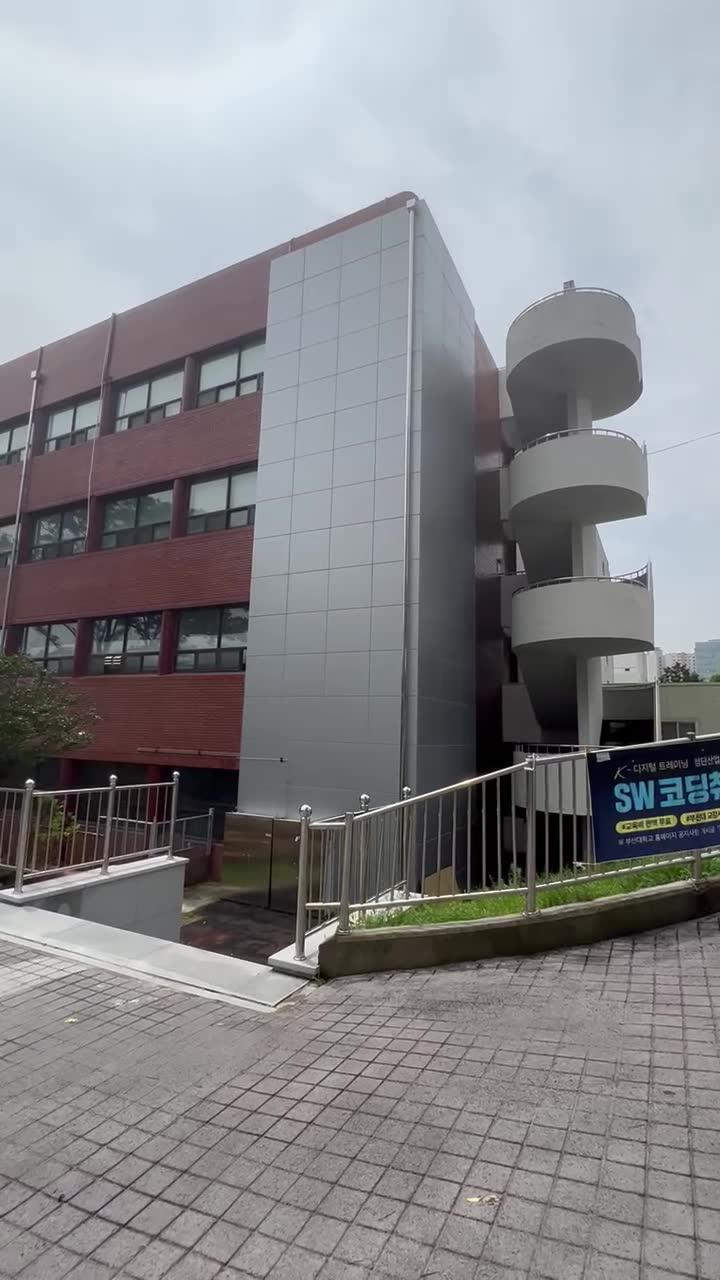building: (38, 218, 672, 736)
